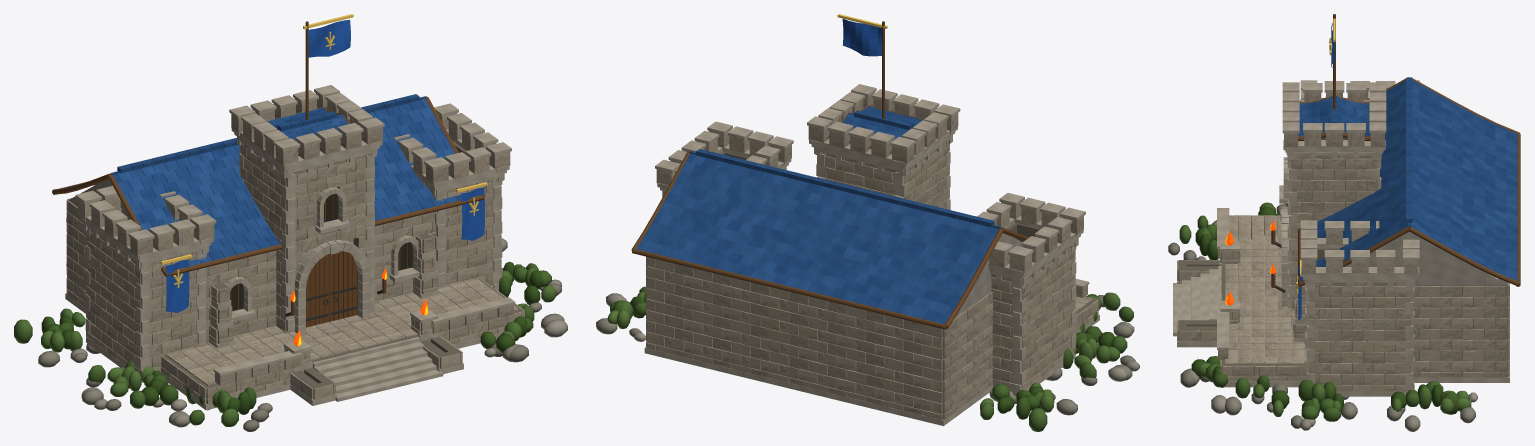
Rendered from BastionEnsemble66.glb.
3 views of the same model, side by side, from view 1: azimuth 30°, elevation 25°; view 2: azimuth 150°, elevation 25°; view 3: azimuth 270°, elevation 25° (orthographic). The views are drawn at different scales.
Visible parts, largest first — view 1: Bastion_Ensemble_Candidate, Bastion_Ensemble_Grounding; view 2: Bastion_Ensemble_Candidate, Bastion_Ensemble_Grounding; view 3: Bastion_Ensemble_Candidate, Bastion_Ensemble_Grounding.
Boxes of the visible parts, x1,y1,x2,y2 form: Bastion_Ensemble_Candidate: [52, 14, 524, 410]; Bastion_Ensemble_Grounding: [14, 238, 567, 431]; Bastion_Ensemble_Candidate: [631, 14, 1099, 425]; Bastion_Ensemble_Grounding: [596, 286, 1139, 431]; Bastion_Ensemble_Candidate: [1173, 14, 1520, 396]; Bastion_Ensemble_Grounding: [1168, 202, 1477, 431].
Size of the model in its own units: 27.14 by 17.23 by 17.89.
Materials: 28 (11 with a texture image).
